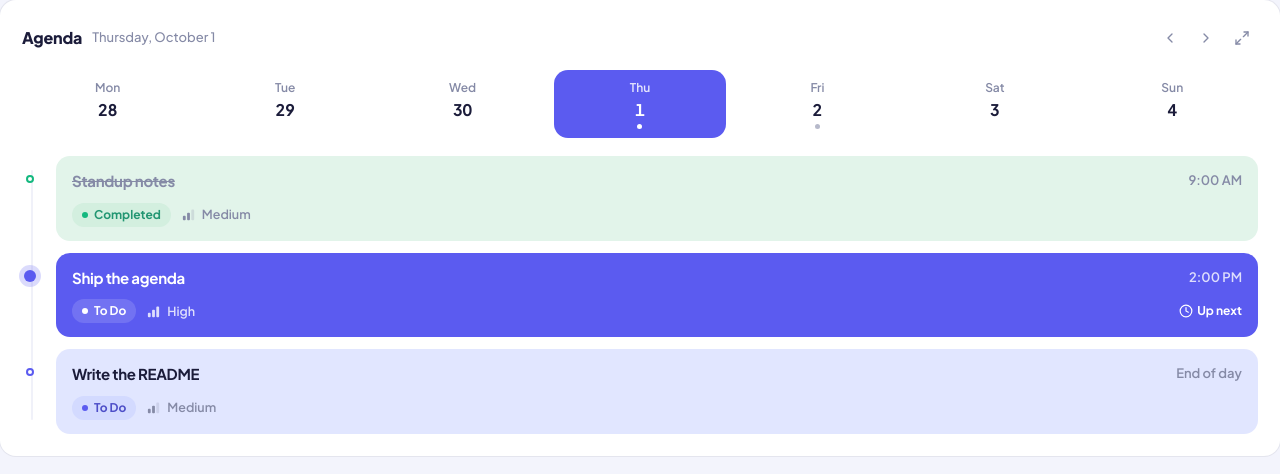
Test: AgendaCard › switches days by click and with the arrow keys
Expected: the heading "Ship the agenda" is shown, [72,268,185,286]
Click the tab with aria-label "Friday, October 2".
click(817, 104)  # box [732,70,903,138]
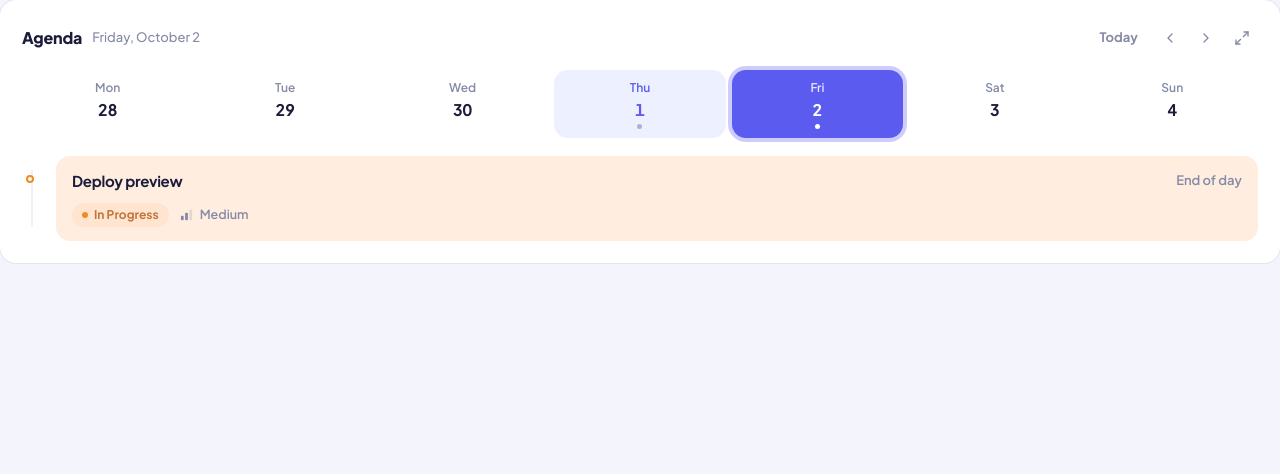
Expected: the heading "Deploy preview" is shown, [72,171,182,190]
Expected: the link "Ship the agenda" is gone
Press Arrowright
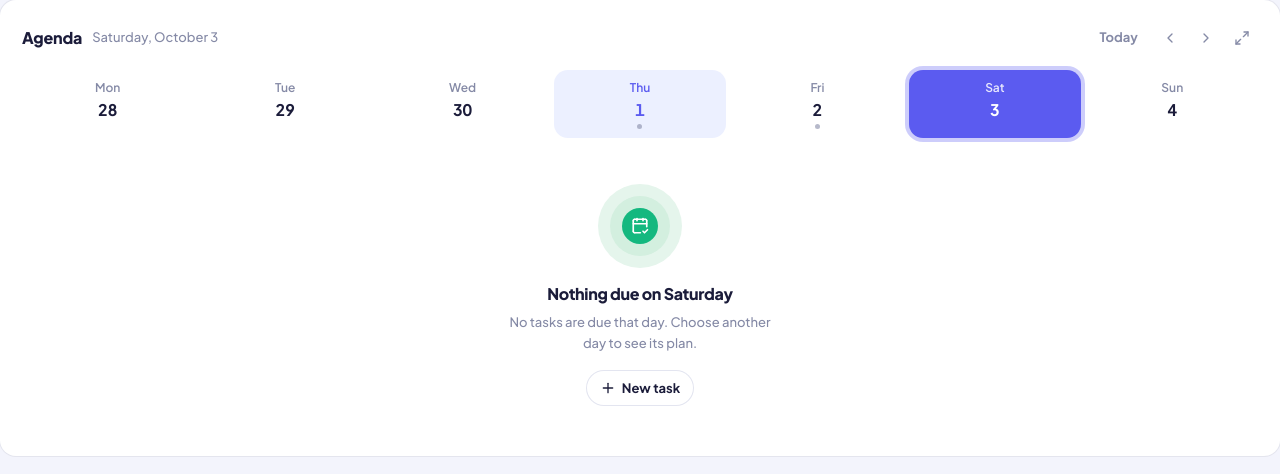
Expected: the heading "Nothing due on Saturday" is shown, [547,282,733,306]
